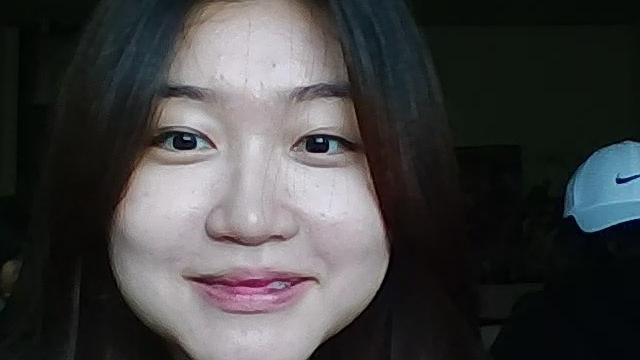eye: (173, 131, 197, 154), (306, 136, 328, 156)
iris: (152, 126, 217, 151), (291, 133, 352, 155)
